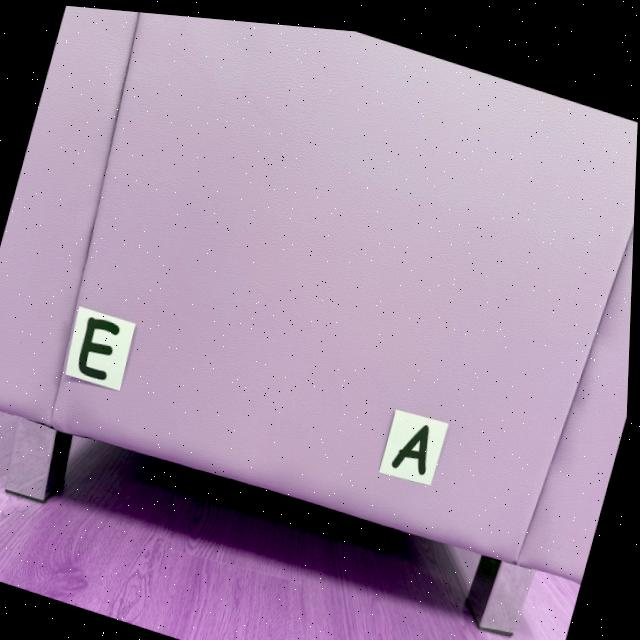A: (394, 416, 432, 467)
E: (80, 315, 122, 378)
